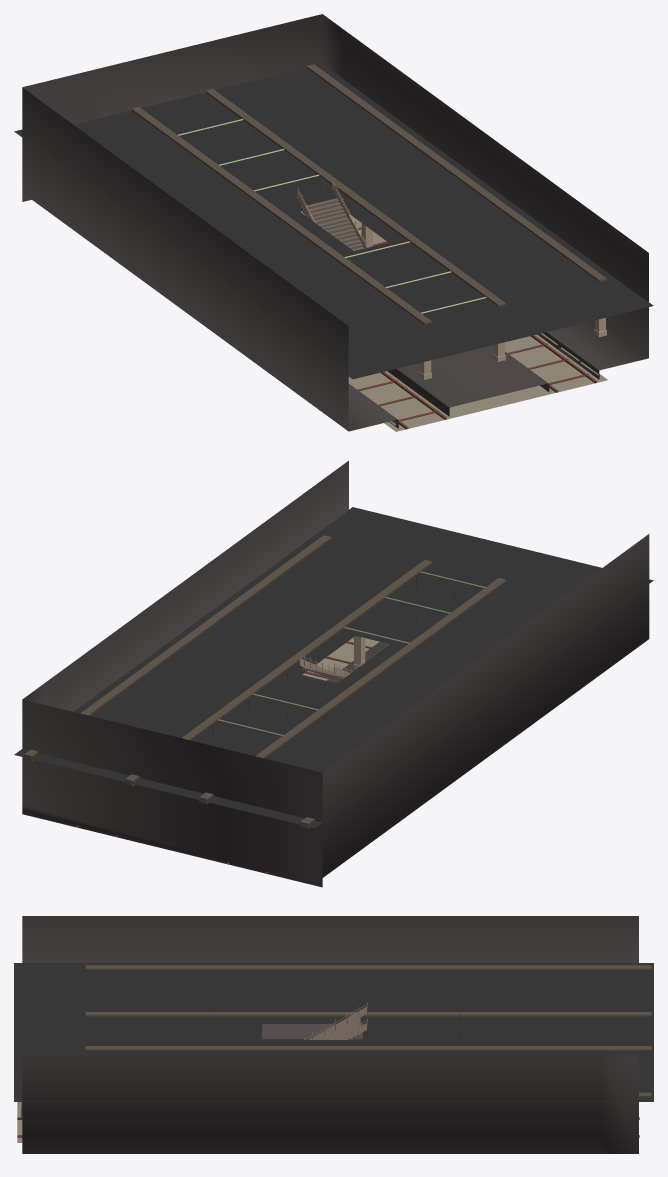
The model's file is Railway station.fbx.
3 views of the same model, one above another, from view 1: azimuth 30°, elevation 25°; view 2: azimuth 150°, elevation 25°; view 3: azimuth 270°, elevation 25° (orthographic). The views are drawn at different scales.
Parts seen in each view (by area): view 1: Main platform, Roof, Beam, Floor, Stairs, Rails, Column, Lights; view 2: Main platform, Roof, Beam, Floor, Lights; view 3: Main platform, Roof, Beam, Rail, Stairs.
Boxes of the visible parts, x1,y1,x2,y2 form: Main platform: (22, 14, 648, 431); Roof: (14, 64, 653, 379); Beam: (131, 64, 607, 324); Floor: (348, 214, 607, 431); Stairs: (301, 198, 364, 250); Rails: (350, 227, 596, 429); Column: (301, 211, 606, 379); Lights: (178, 119, 486, 313); Main platform: (22, 460, 649, 887); Roof: (14, 507, 653, 828); Beam: (24, 535, 506, 828); Floor: (302, 637, 379, 680); Lights: (218, 571, 485, 735); Main platform: (21, 916, 638, 1153); Roof: (14, 963, 653, 1101); Beam: (85, 965, 651, 1097); Rail: (304, 1002, 367, 1039); Stairs: (317, 1018, 360, 1040).
Bounding box in the file's own units: 2389 × 870 × 4652.
